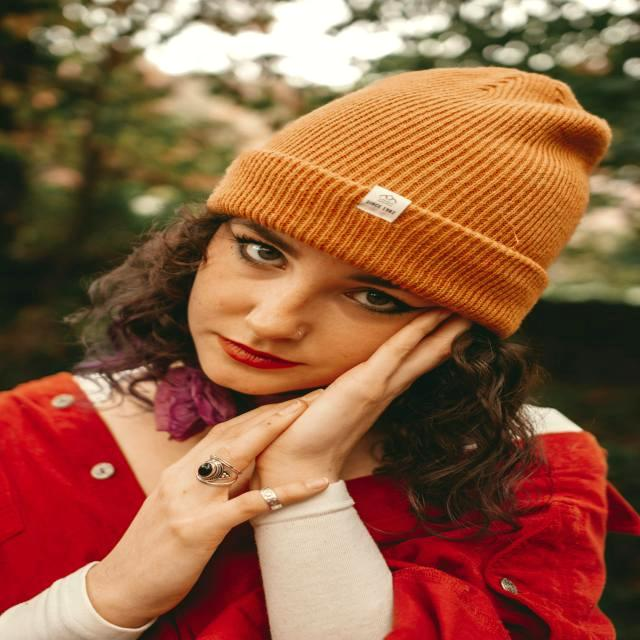no_hard_hat: (208, 68, 611, 337)
person: (1, 68, 637, 640)
